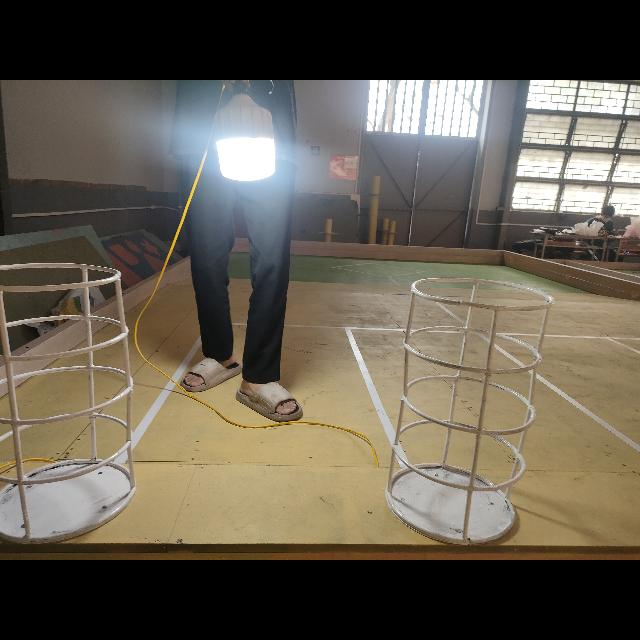S: (382, 264, 556, 546), (4, 247, 138, 548)
